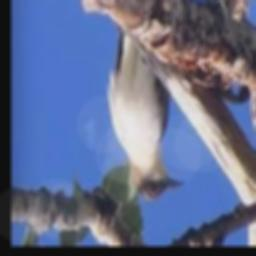Cuckoo: (108, 31, 186, 199)
